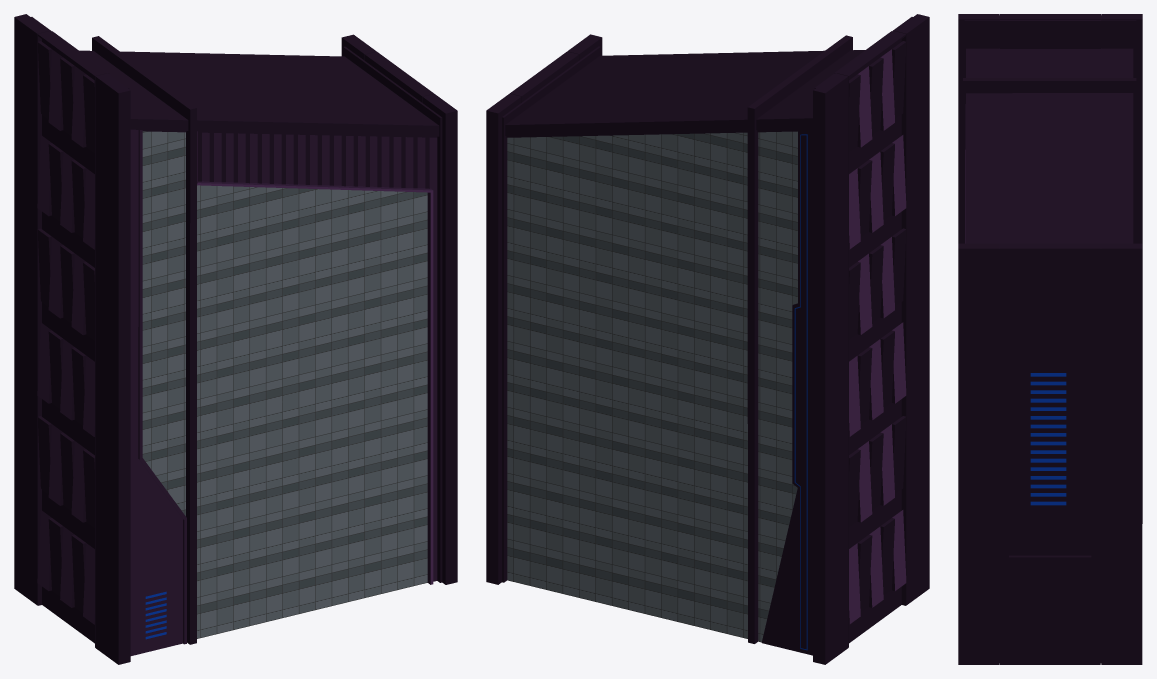
Rendered from Building_009_2st_L3.fbx.
3 views of the same model, side by side, from view 1: azimuth 30°, elevation 25°; view 2: azimuth 150°, elevation 25°; view 3: azimuth 270°, elevation 25° (orthographic). The views are drawn at different scales.
Parts seen in each view (by area): view 1: Building_009_2st_L3; view 2: Building_009_2st_L3; view 3: Building_009_2st_L3.
Part boxes in pixels (<box>): Building_009_2st_L3: <box>14,14,457,664</box>; Building_009_2st_L3: <box>486,14,929,664</box>; Building_009_2st_L3: <box>958,14,1142,664</box>.
Size of the model in its own units: 43.17 by 69.36 by 22.95.
Materials: 3 (1 with a texture image).
